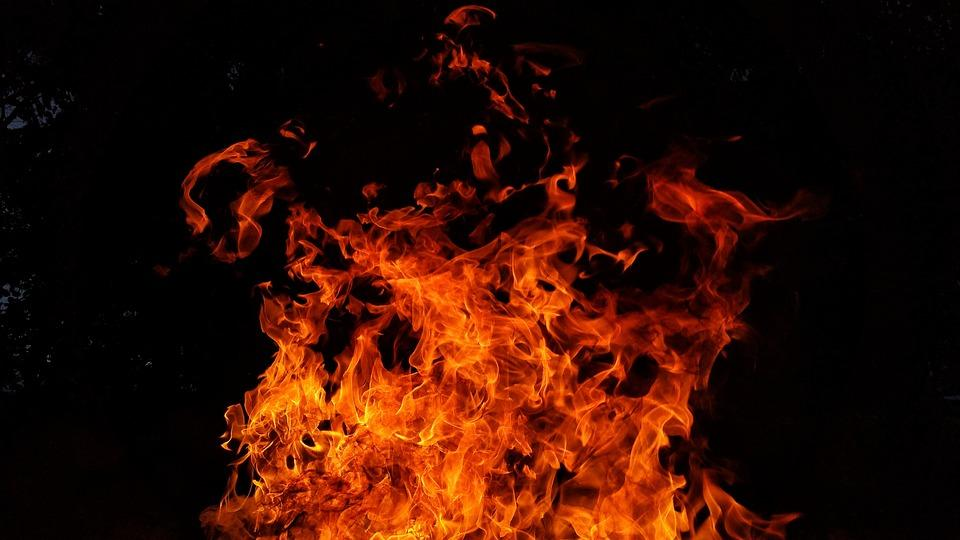fire: (160, 131, 789, 539)
